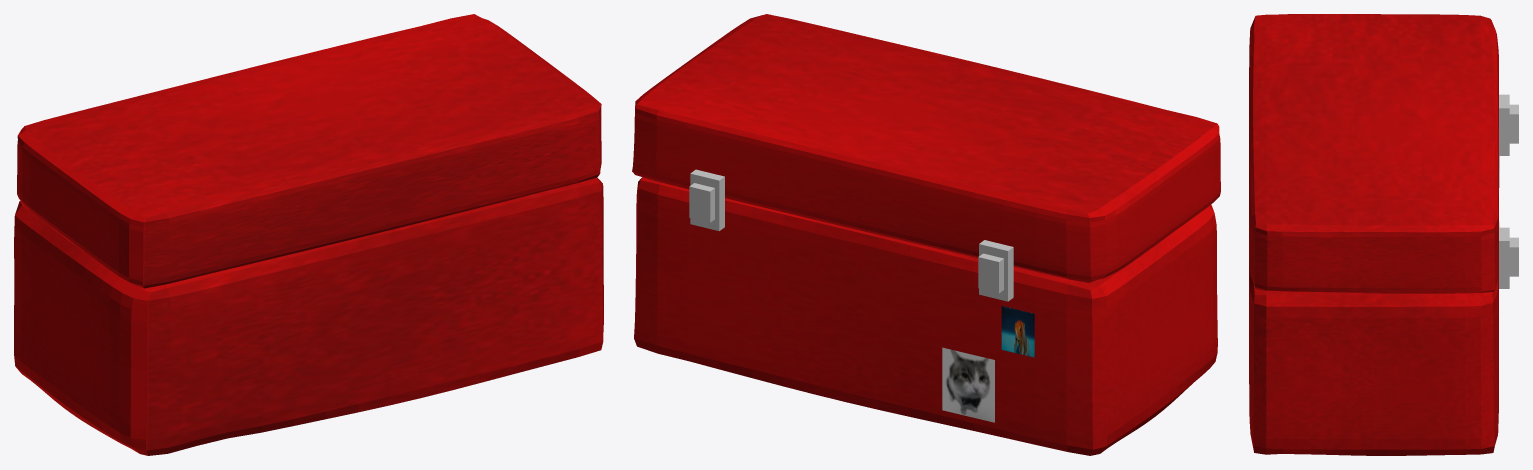
The model's file is toolbox.fbx.
3 views of the same model, side by side, from view 1: azimuth 30°, elevation 25°; view 2: azimuth 150°, elevation 25°; view 3: azimuth 270°, elevation 25° (orthographic). The views are drawn at different scales.
Visible parts, largest first — view 1: Cube, Cube.001; view 2: Cube.001, Cube, Plane, Plane.001, Cube.002, Cube.003, Cube.005, Cube.004; view 3: Cube.001, Cube, Cube.002, Cube.003, Cube.004, Cube.005.
Boxes of the visible parts, box(x1,y1,x2,y2) form: Cube: box(14, 177, 603, 455); Cube.001: box(17, 14, 601, 288); Cube.001: box(632, 14, 1220, 282); Cube: box(634, 177, 1217, 455); Plane: box(942, 347, 994, 422); Plane.001: box(1001, 306, 1034, 357); Cube.002: box(690, 169, 724, 231); Cube.003: box(979, 240, 1013, 301); Cube.005: box(978, 253, 1003, 293); Cube.004: box(689, 183, 714, 222); Cube.001: box(1249, 14, 1498, 293); Cube: box(1249, 236, 1498, 455); Cube.002: box(1499, 227, 1509, 288); Cube.003: box(1499, 94, 1509, 155); Cube.004: box(1509, 237, 1518, 276); Cube.005: box(1509, 104, 1518, 143).
Size of the model in its own units: 414 by 206 by 215.
